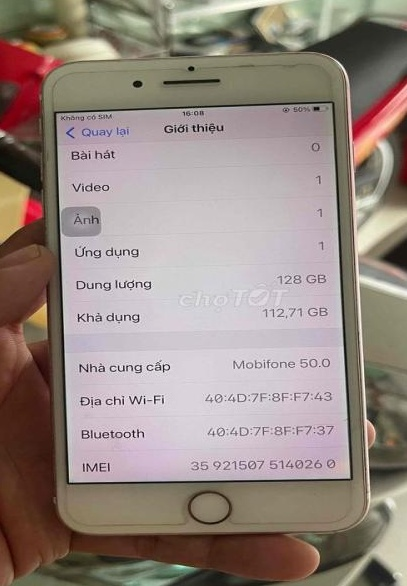scratch: (45, 60, 355, 105)
